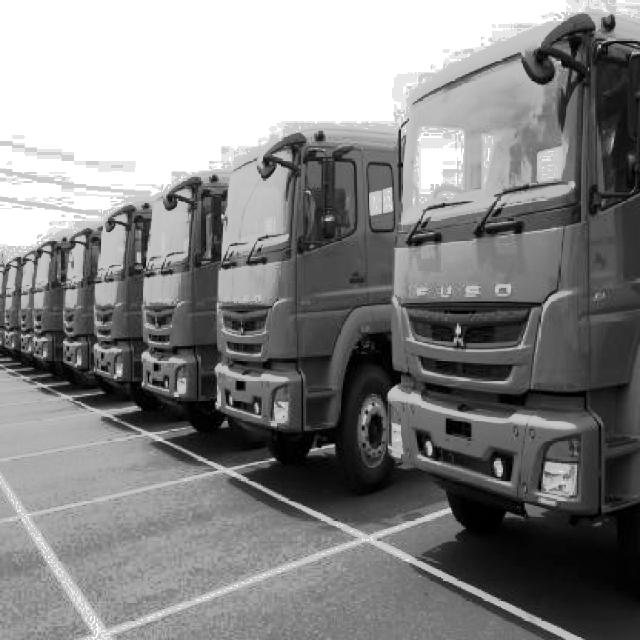HCV: (389, 100, 640, 596), (224, 166, 398, 517), (142, 169, 252, 451), (69, 206, 157, 395), (57, 228, 100, 355), (26, 240, 67, 354), (12, 240, 48, 342)
